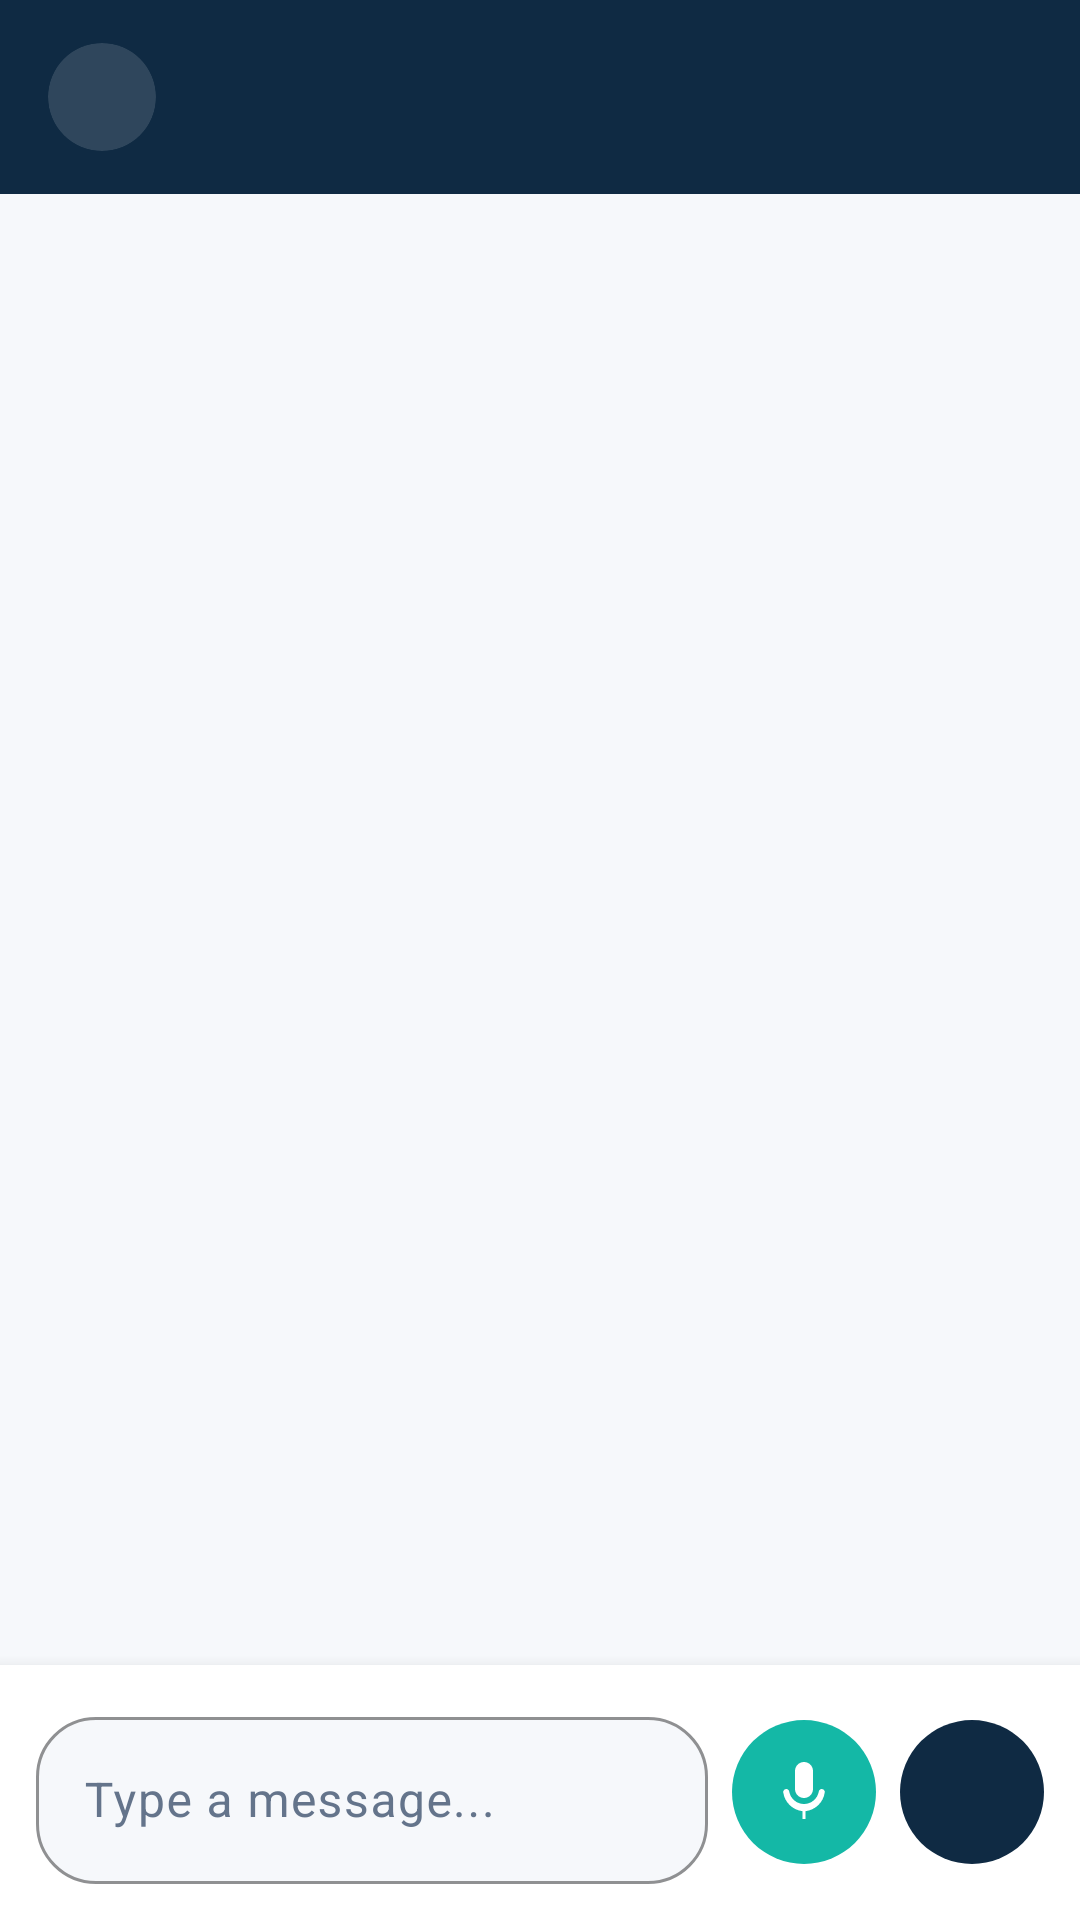

Icons on this 1080px×1920px Android screen, each with the point to tap as point (x, y):
mic: point (804, 1792)
